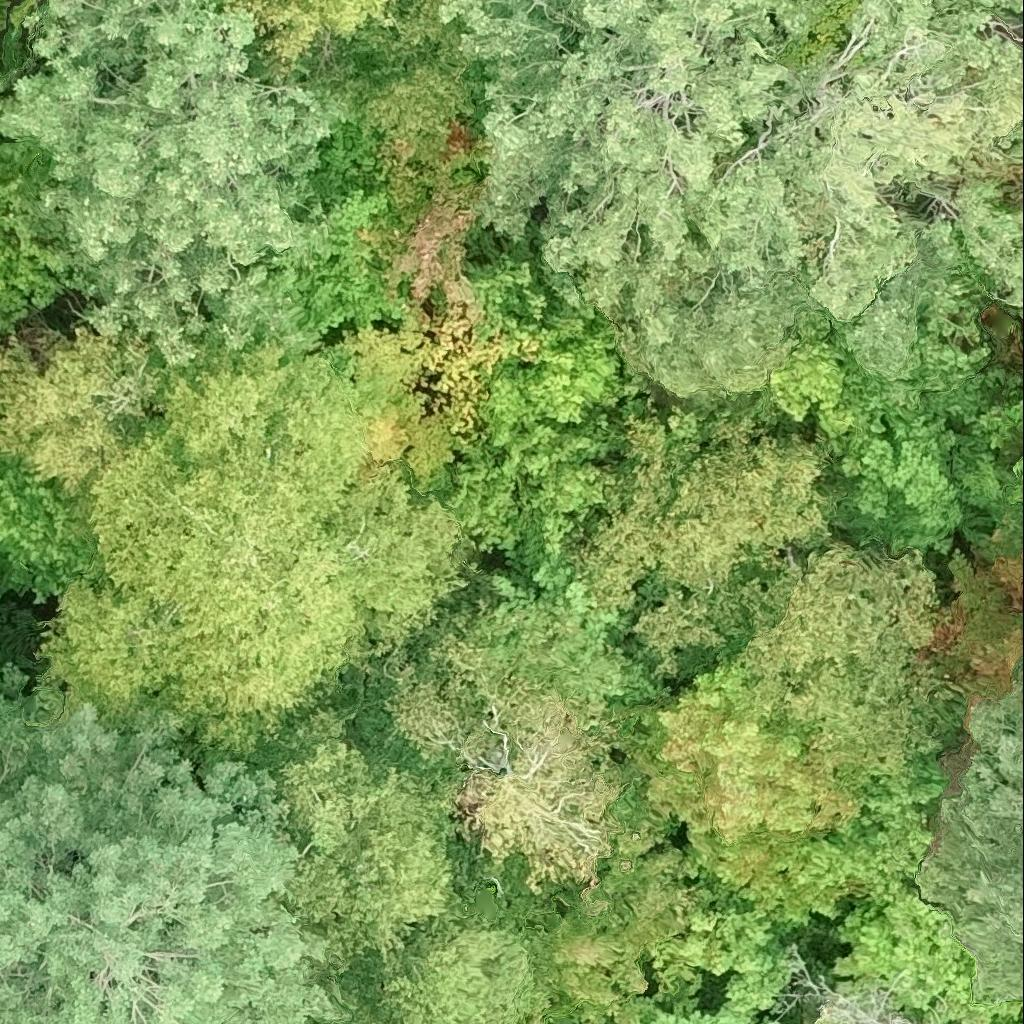crown: (38, 317, 480, 761), (581, 0, 1023, 398), (0, 659, 352, 1023), (0, 0, 347, 369), (441, 0, 833, 320), (401, 205, 642, 589), (620, 655, 952, 928), (388, 598, 644, 910), (567, 409, 841, 678), (713, 536, 978, 776), (249, 701, 468, 968), (262, 111, 495, 341), (764, 250, 1000, 474), (214, 0, 494, 147), (916, 660, 1023, 1006), (815, 376, 1018, 553), (0, 308, 166, 490), (813, 889, 1023, 1023), (335, 905, 549, 1023), (649, 880, 805, 1017), (0, 444, 105, 598), (0, 137, 77, 328), (965, 394, 1023, 570), (778, 0, 856, 90), (613, 996, 783, 1023), (994, 550, 1023, 609), (0, 598, 4, 695), (0, 78, 11, 102), (546, 0, 574, 9), (0, 338, 1, 371)
